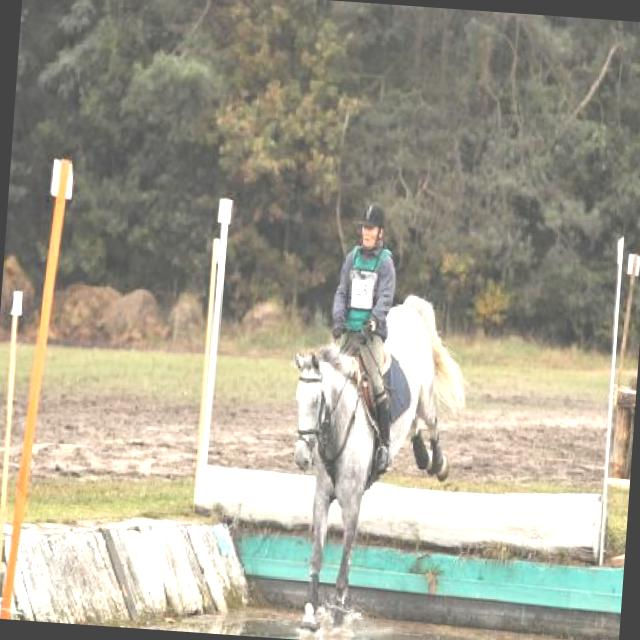Person: (315, 204, 407, 485)
